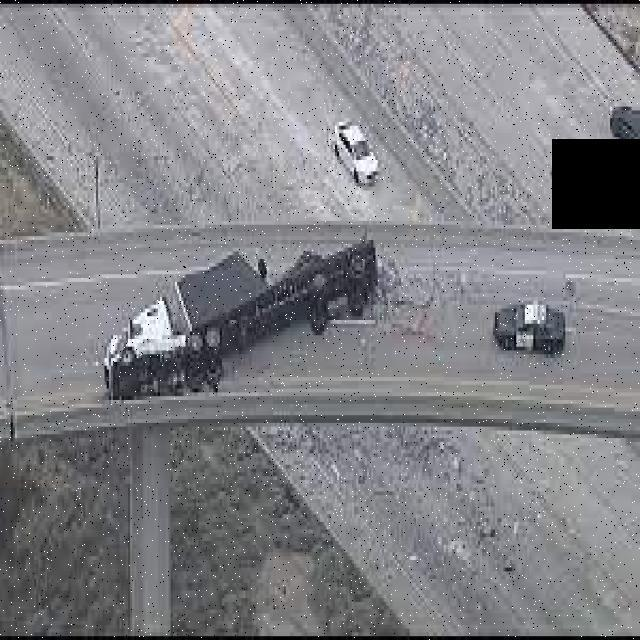severe: (98, 244, 393, 392)
